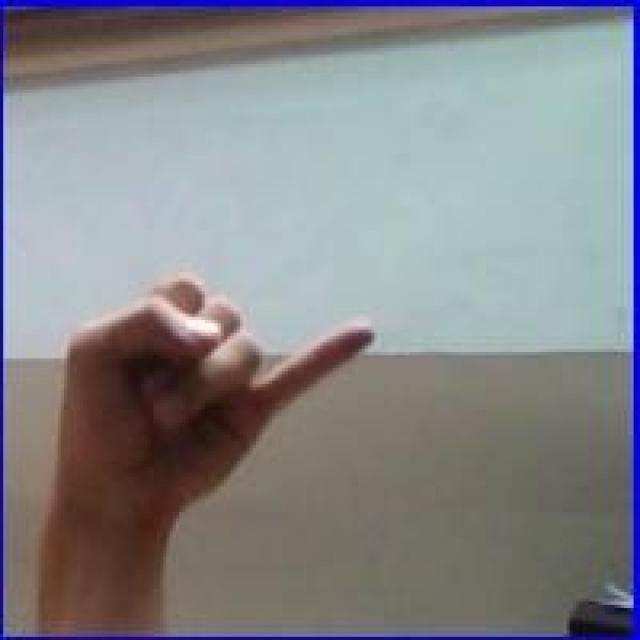J: (32, 269, 378, 534)
